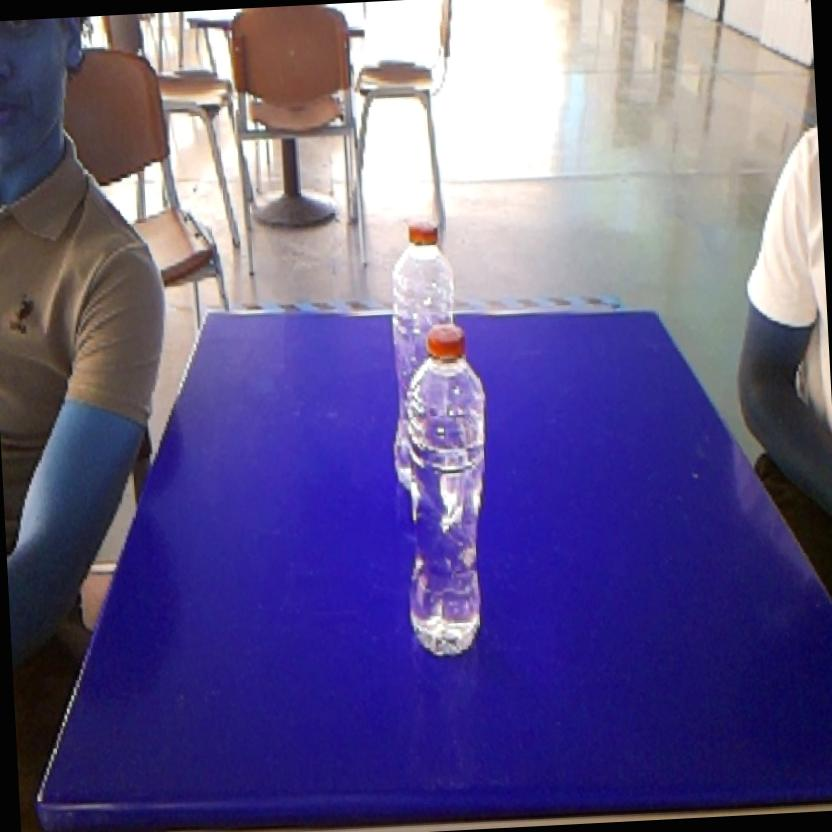no_label: (382, 315, 510, 672), (381, 206, 467, 326)
